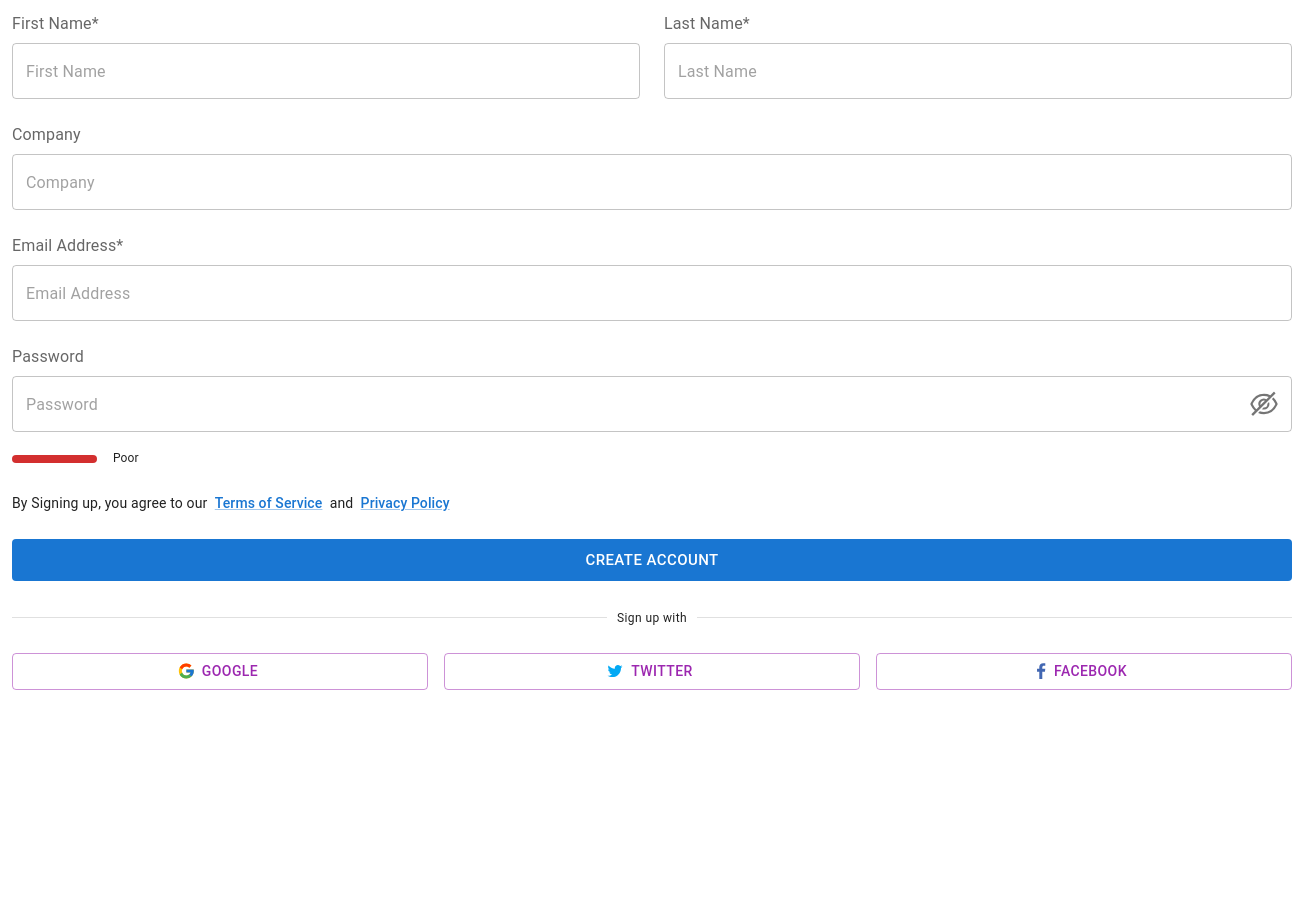
it: form validation should work › Last Name required should work
The image size is (1304, 912).
Focus the field with placeholder "Last Name" at (978,71), box [664,43,1292,99]
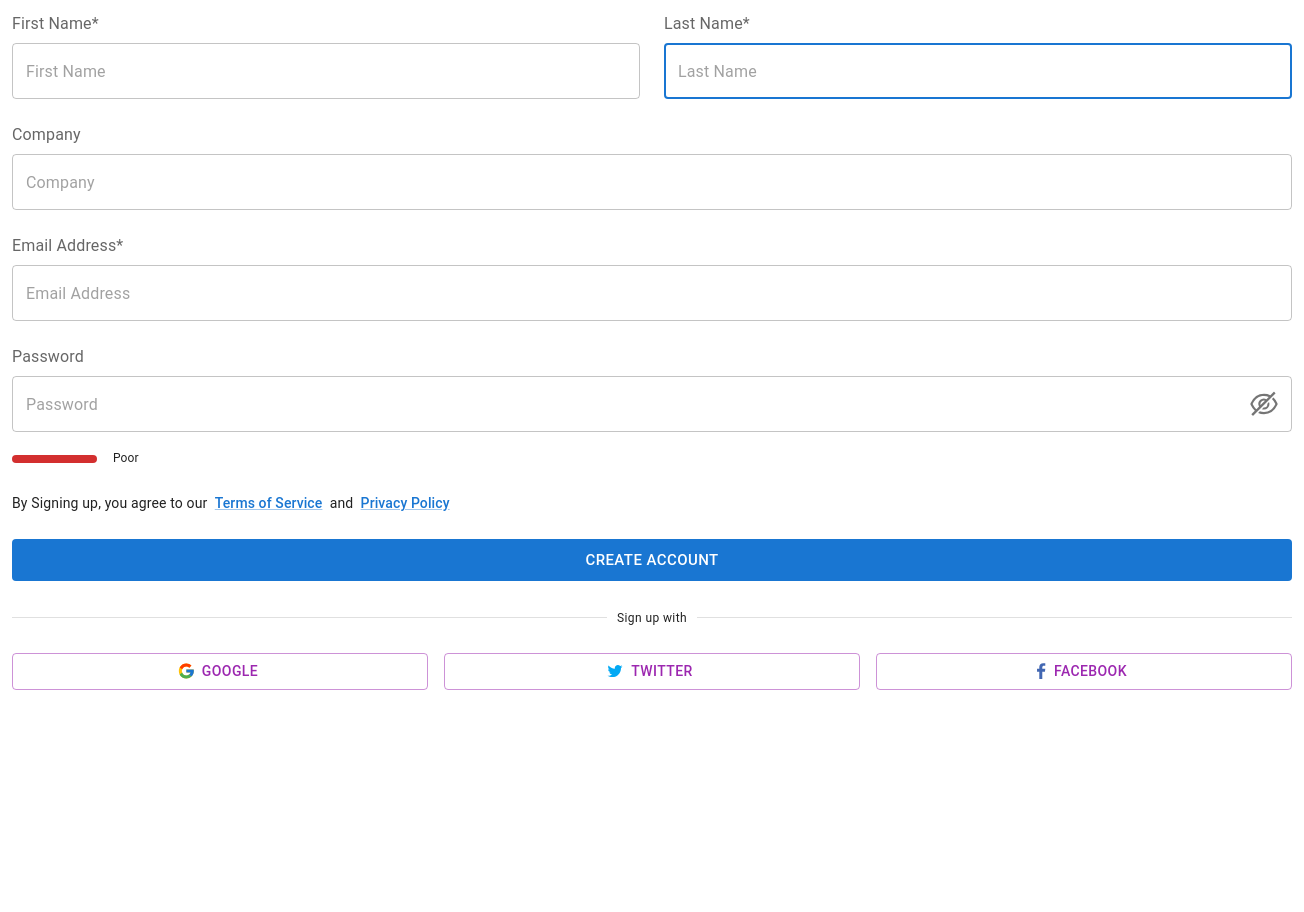
Leave the field with placeholder "Last Name", box [664,43,1292,99]
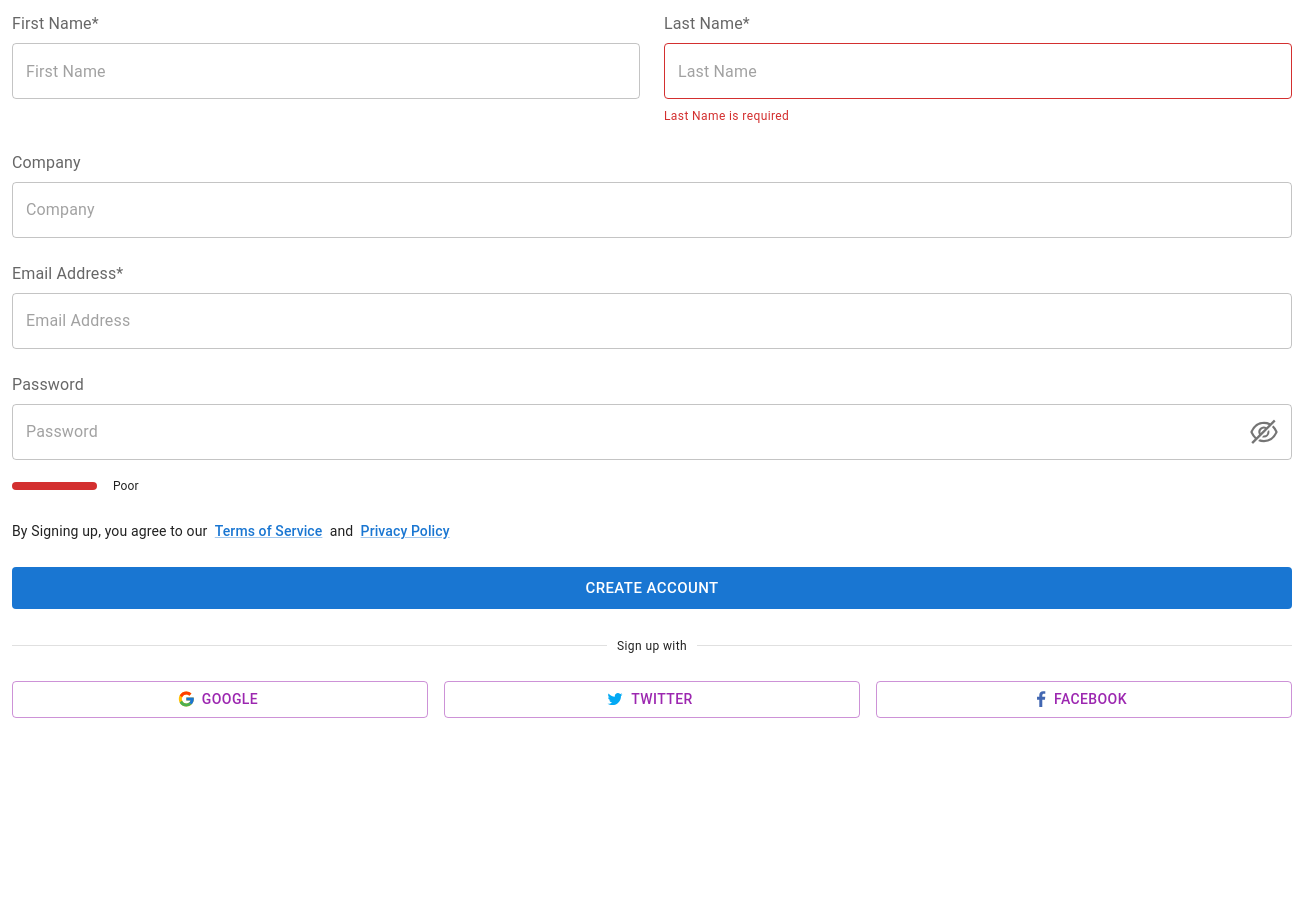
Check: the text "Last Name is required" is shown, box [664,109,789,123]
